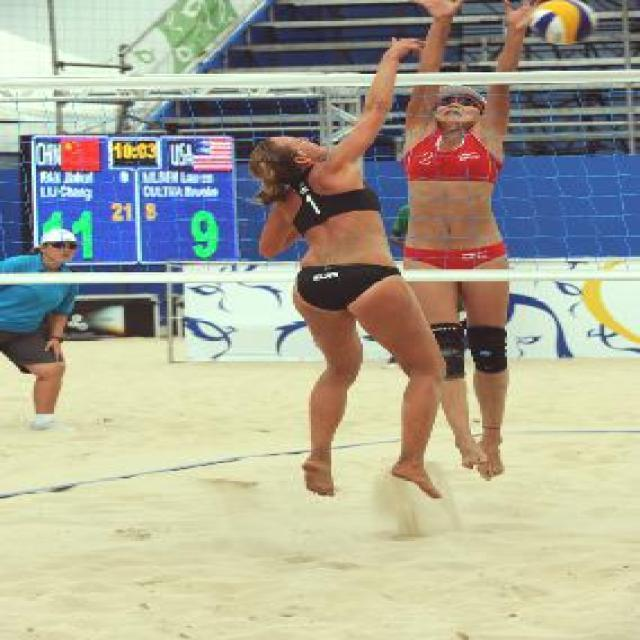volleyball: (528, 0, 596, 44)
